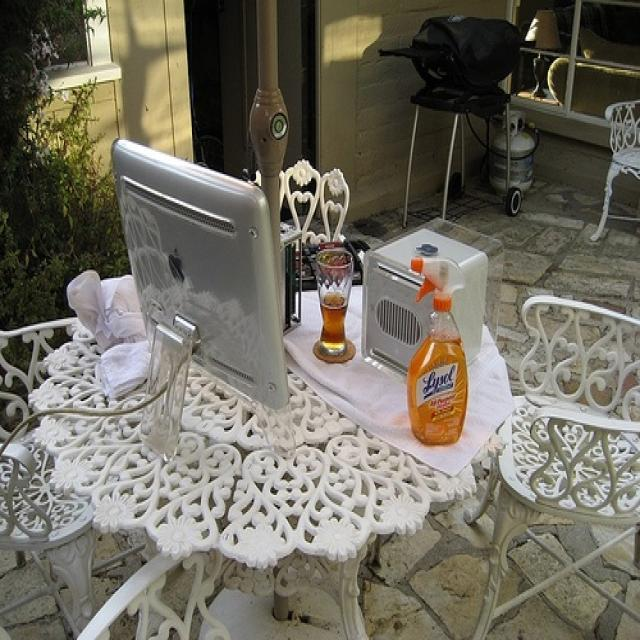chair: (463, 296, 639, 638), (0, 312, 97, 636), (589, 100, 639, 240)
tvmonitor: (113, 138, 289, 461)
